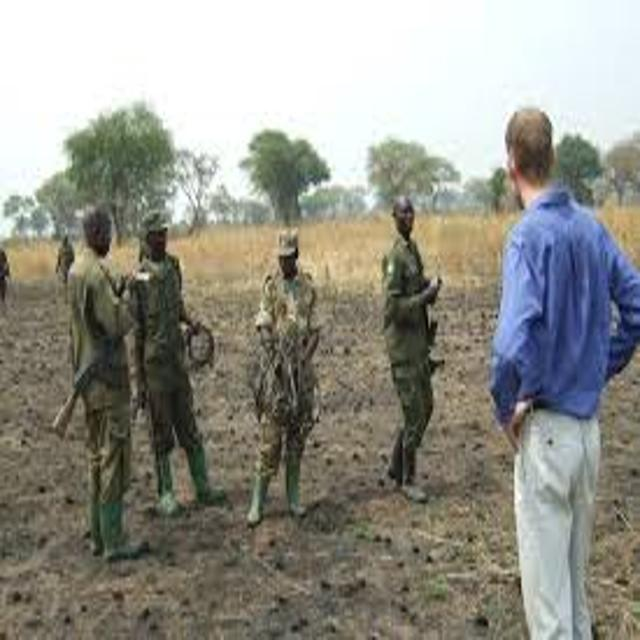ranger: (446, 82, 638, 639), (37, 189, 186, 598), (195, 212, 373, 544), (102, 183, 252, 539), (340, 179, 478, 514), (39, 224, 92, 301)
